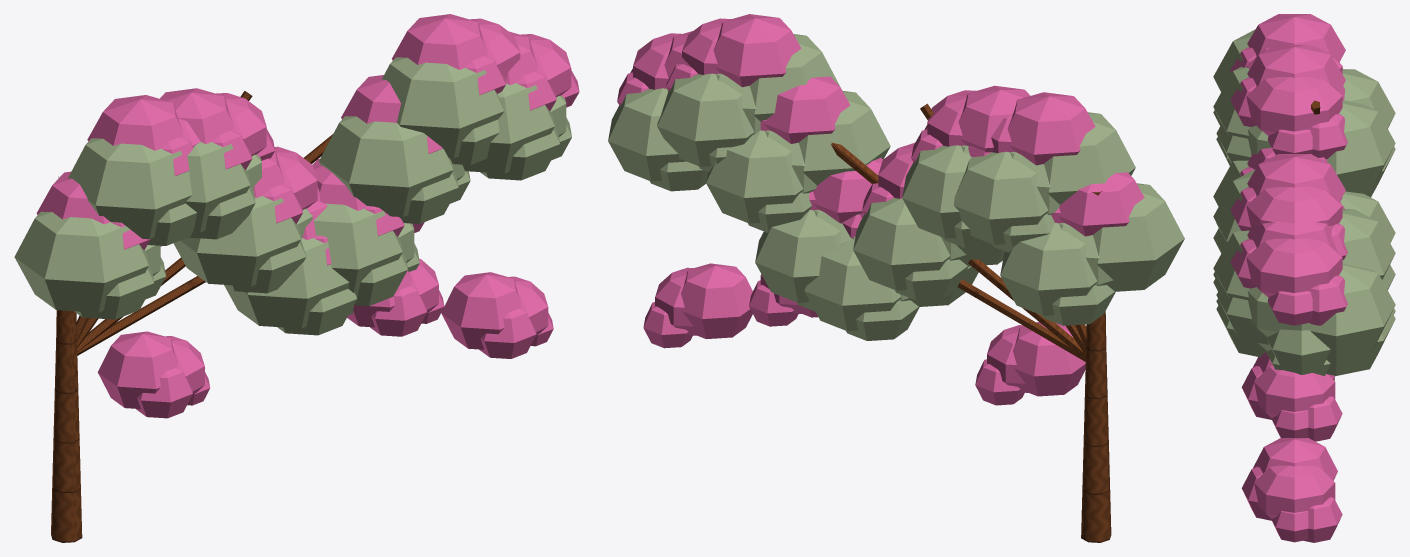
The model's file is greek-island-village-and-harbour-bougainvillea-run-91a5168c__37093.glb.
The picture shows the model from 3 angles, left to right: view 1: azimuth 30°, elevation 25°; view 2: azimuth 150°, elevation 25°; view 3: azimuth 270°, elevation 25°; orthographic projection. The views are drawn at different scales.
Visible parts, largest first — view 1: bougainvillea-run; view 2: bougainvillea-run; view 3: bougainvillea-run.
Part boxes in pixels (x1,y1,x2,y2): bougainvillea-run: [14, 14, 579, 542]; bougainvillea-run: [608, 14, 1184, 542]; bougainvillea-run: [1213, 14, 1395, 542].
Size of the model in its own units: 3.56 by 2.68 by 1.03.
Materials: 3 (1 with a texture image).
